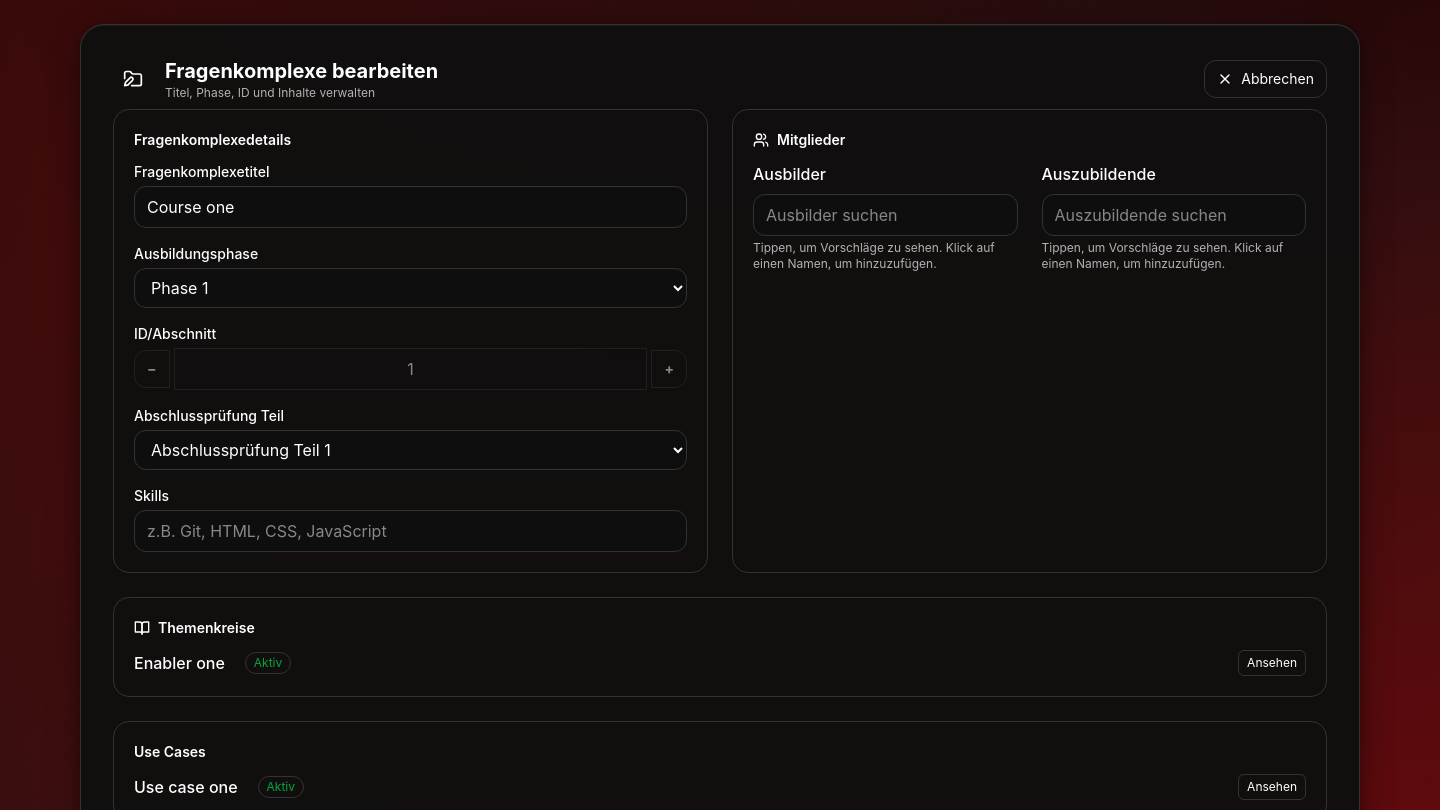
Test: course editor › platformTrainer can read the documents of an enabler but not change them
Click the button "Ansehen" in the row of "Enabler one" at (1272, 663), box [1238,650,1306,676]
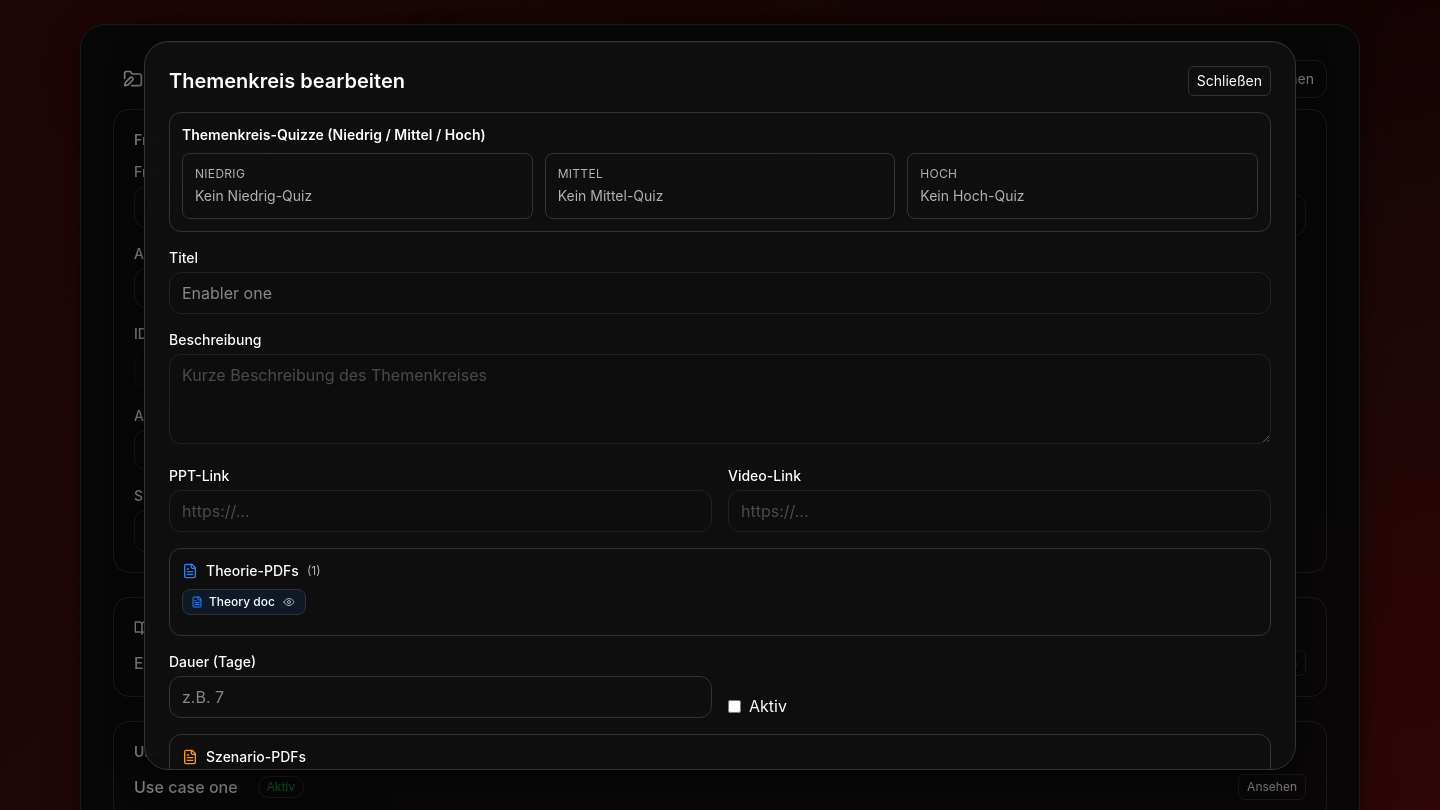
Now the text "Theory doc" is shown, box [209,594,275,610]
